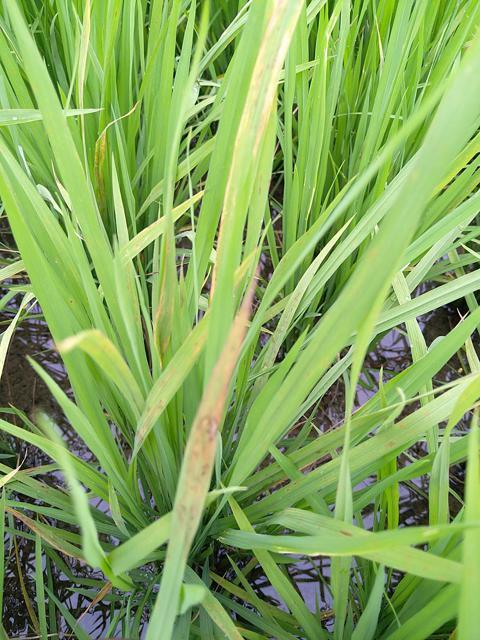Leaf Streak: (146, 268, 259, 639), (233, 0, 306, 266), (131, 306, 211, 461), (11, 511, 86, 561), (233, 228, 266, 298), (91, 127, 109, 231), (154, 294, 177, 374)
